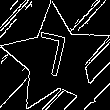L_S: (36, 31, 77, 87)
